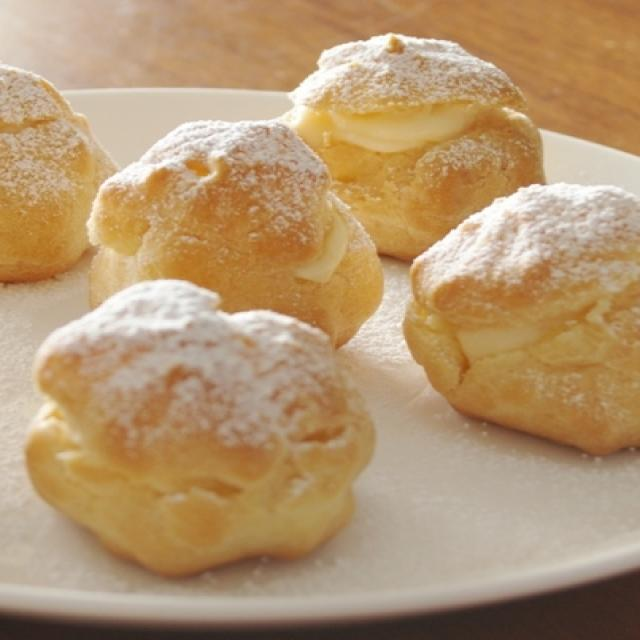炸货点心: (8, 8, 618, 592)
蛋糕甜品: (8, 8, 618, 592)
